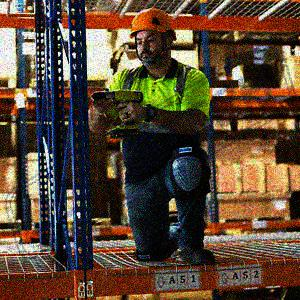helmet: (131, 8, 178, 66)
